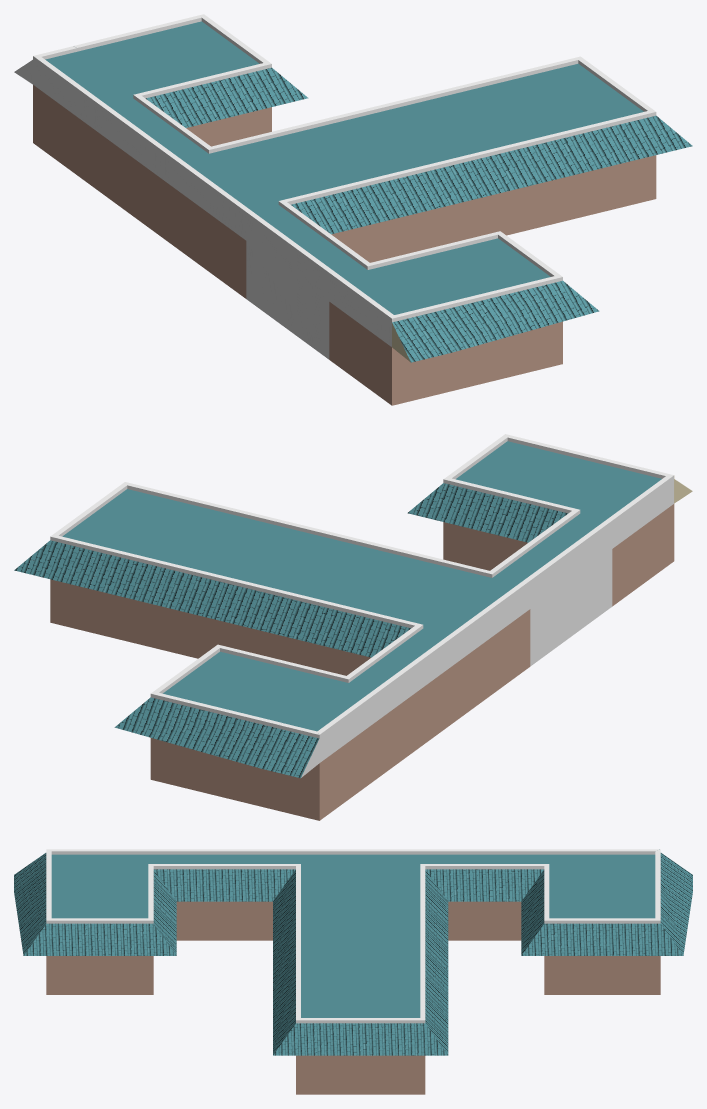
Rendered from t_building.fbx.
3 renders of one model, top to bottom at view 1: azimuth 30°, elevation 25°; view 2: azimuth 150°, elevation 25°; view 3: azimuth 270°, elevation 25°, orthographic. The views are drawn at different scales.
Visible parts, largest first — view 1: Cube; view 2: Cube; view 3: Cube.
Part boxes in pixels (bbox=[...]): Cube: bbox=[14, 14, 692, 405]; Cube: bbox=[14, 434, 692, 820]; Cube: bbox=[14, 849, 692, 1094].
Bounding box in the file's own units: 1087 × 209 × 1725.
